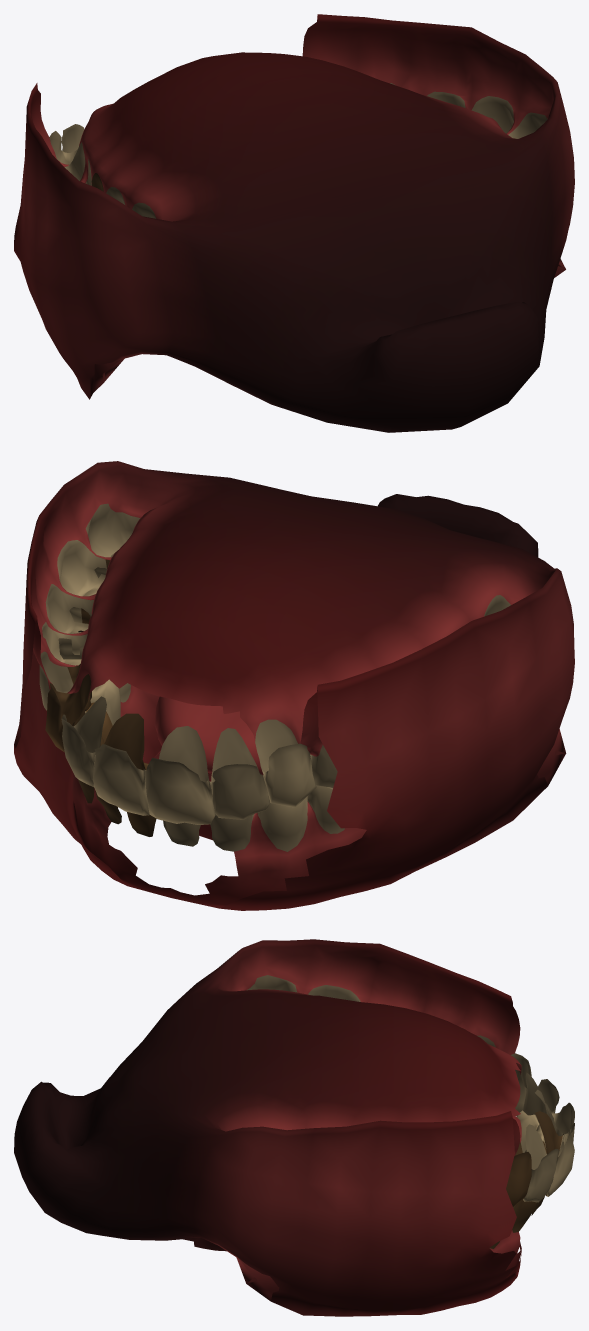
The model's file is boca_vit.glb.
3 views of the same model, one above another, from view 1: azimuth 30°, elevation 25°; view 2: azimuth 150°, elevation 25°; view 3: azimuth 270°, elevation 25° (orthographic). The views are drawn at different scales.
Parts seen in each view (by area): view 1: BocaVit; view 2: BocaVit; view 3: BocaVit.
Boxes of the visible parts, x1,y1,x2,y2 form: BocaVit: (14,14,574,432); BocaVit: (14,461,574,910); BocaVit: (14,939,574,1316).
Bounding box in the file's own units: 0.0624 × 0.0346 × 0.0752.
